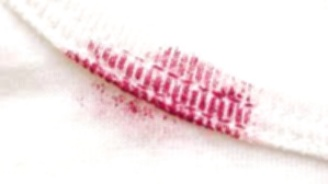lipstick: (64, 42, 257, 145)
